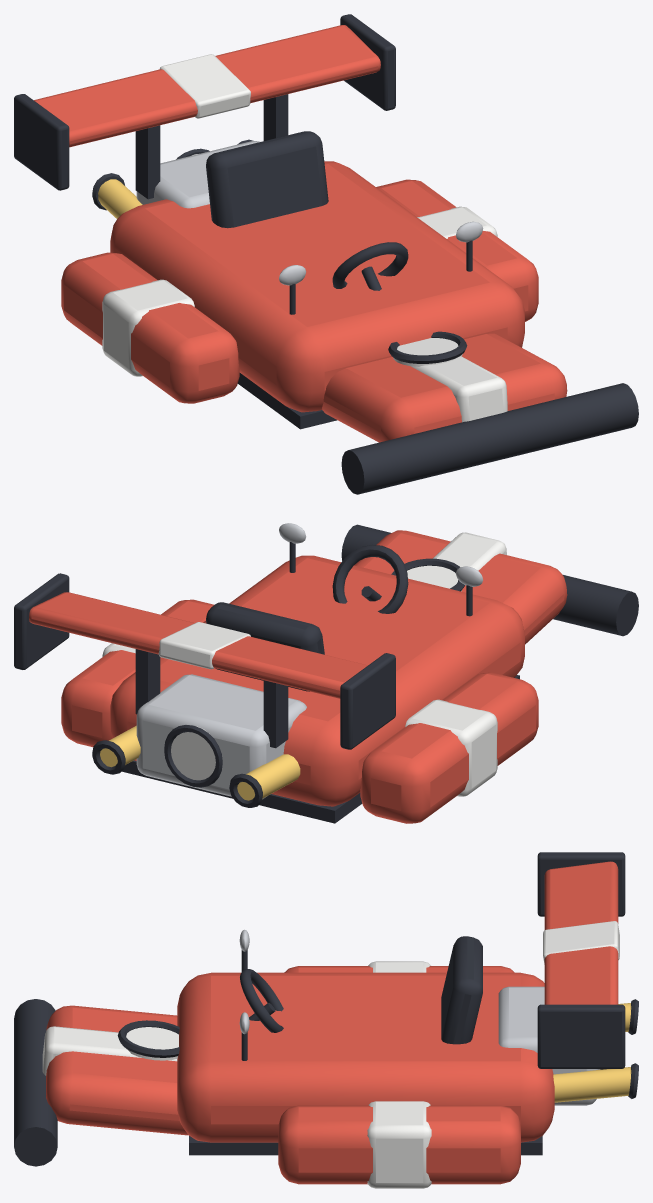
Rendered from kart_r42_backup.glb.
3 renders of one model, top to bottom at view 1: azimuth 30°, elevation 25°; view 2: azimuth 150°, elevation 25°; view 3: azimuth 270°, elevation 25°, orthographic. The views are drawn at different scales.
Visible parts, largest first — view 1: K_Tub, K_Wing, K_BumperF, K_Pod, K_Nose, K_SeatBack, K_Pod.001, K_WingEnd, K_PodStripe, K_WingStripe, K_NoseStripe, K_Engine (+9 smaller); view 2: K_Tub, K_Pod, K_Wing, K_Engine, K_Nose, K_Pod.001, K_BumperF, K_WingEnd, K_PodStripe, K_SeatBack, K_WingEnd.001, K_WingStripe (+15 smaller); view 3: K_Tub, K_Pod.001, K_Nose, K_Wing, K_BumperF, K_WingEnd.001, K_PodStripe.001, K_SeatBack, K_Engine, K_Exhaust.001, K_NoseStripe, K_WingEnd (+7 smaller).
Part boxes in pixels (x1,y1,x2,y2): K_Tub: [110, 161, 524, 412]; K_Wing: [34, 25, 380, 147]; K_BumperF: [341, 383, 638, 494]; K_Pod: [61, 252, 239, 403]; K_Nose: [322, 333, 567, 442]; K_SeatBack: [206, 131, 328, 228]; K_Pod.001: [376, 179, 538, 321]; K_WingEnd: [14, 94, 69, 190]; K_PodStripe: [102, 279, 194, 376]; K_WingStripe: [160, 54, 250, 118]; K_NoseStripe: [411, 356, 507, 422]; K_Engine: [136, 141, 260, 208]; K_Tub: [110, 555, 524, 806]; K_Pod: [360, 672, 538, 823]; K_Wing: [29, 592, 367, 698]; K_Engine: [136, 674, 306, 799]; K_Nose: [354, 530, 567, 644]; K_Pod.001: [61, 599, 214, 747]; K_BumperF: [341, 524, 638, 636]; K_WingEnd: [340, 653, 395, 749]; K_PodStripe: [405, 699, 497, 796]; K_SeatBack: [206, 602, 324, 691]; K_WingEnd.001: [14, 573, 69, 669]; K_WingStripe: [158, 622, 250, 669]; K_Tub: [177, 972, 554, 1142]; K_Pod.001: [278, 1105, 520, 1184]; K_Nose: [46, 1005, 188, 1135]; K_Wing: [544, 861, 618, 1004]; K_BumperF: [14, 999, 57, 1166]; K_WingEnd.001: [537, 1004, 625, 1068]; K_PodStripe.001: [367, 1101, 431, 1188]; K_SeatBack: [441, 936, 482, 1044]; K_Engine: [498, 986, 598, 1105]; K_Exhaust.001: [553, 1067, 631, 1102]; K_NoseStripe: [42, 1026, 177, 1075]; K_WingEnd: [537, 852, 625, 916].
Size of the model in its own units: 2.41 by 1.15 by 3.71.
